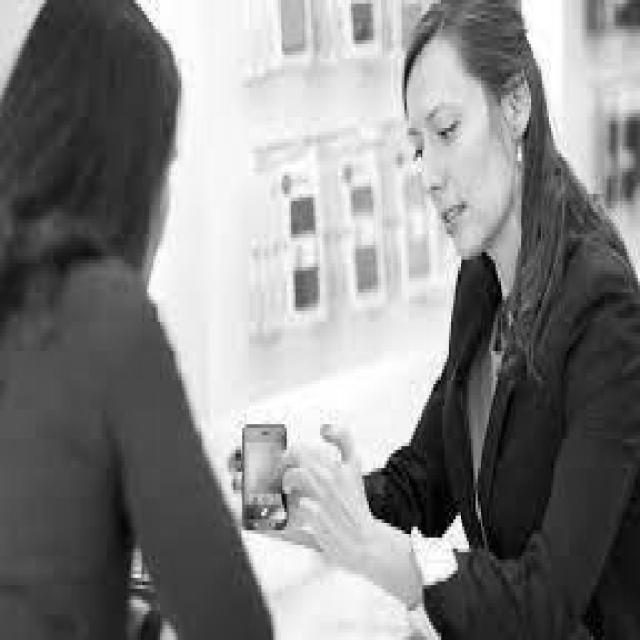No gun_phone: (244, 427, 290, 526)
